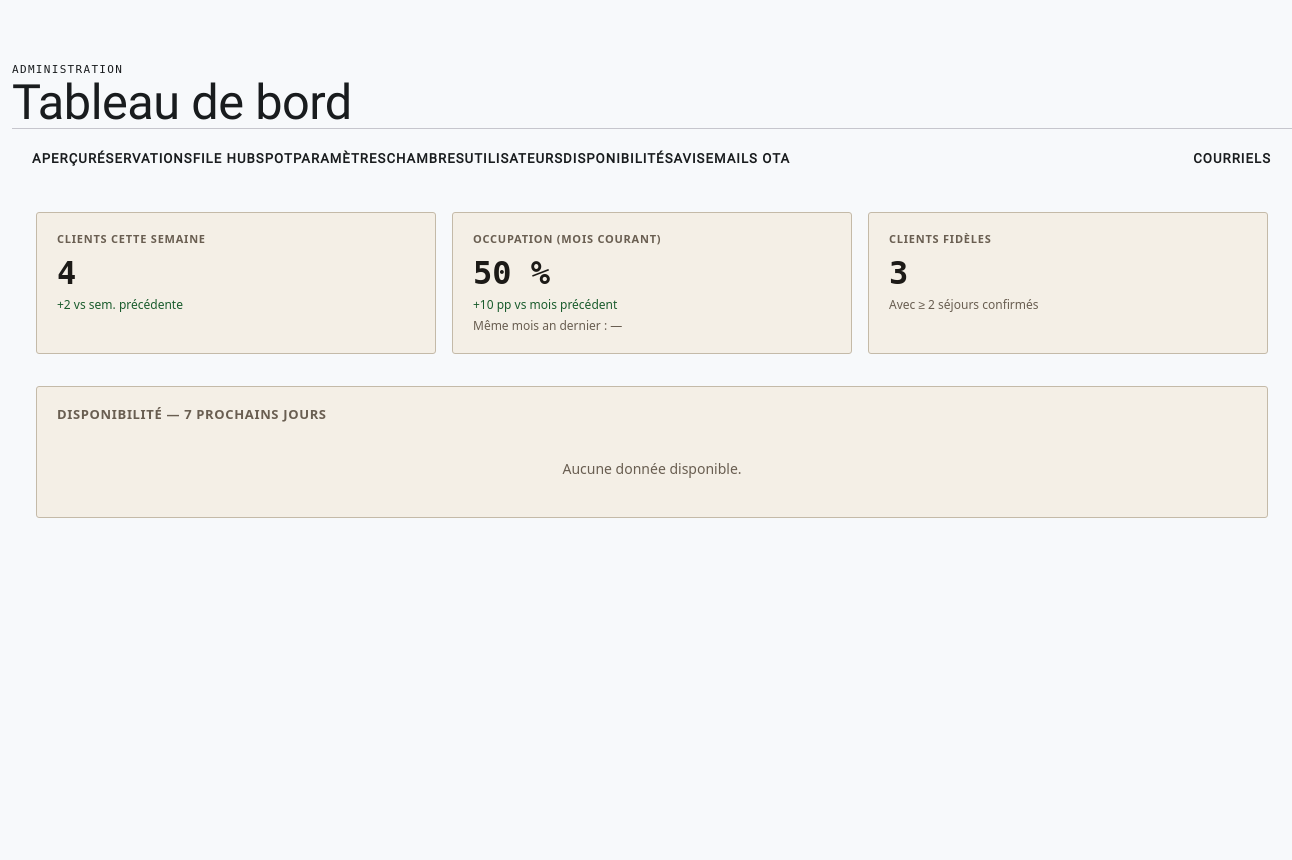
Test: page-admin tax settings fields › renders the three tax inputs seeded from the loaded settings
Click the tab with test id "tab-settings". click: (340, 159)
box: x1=293 y1=129 x2=386 y2=188
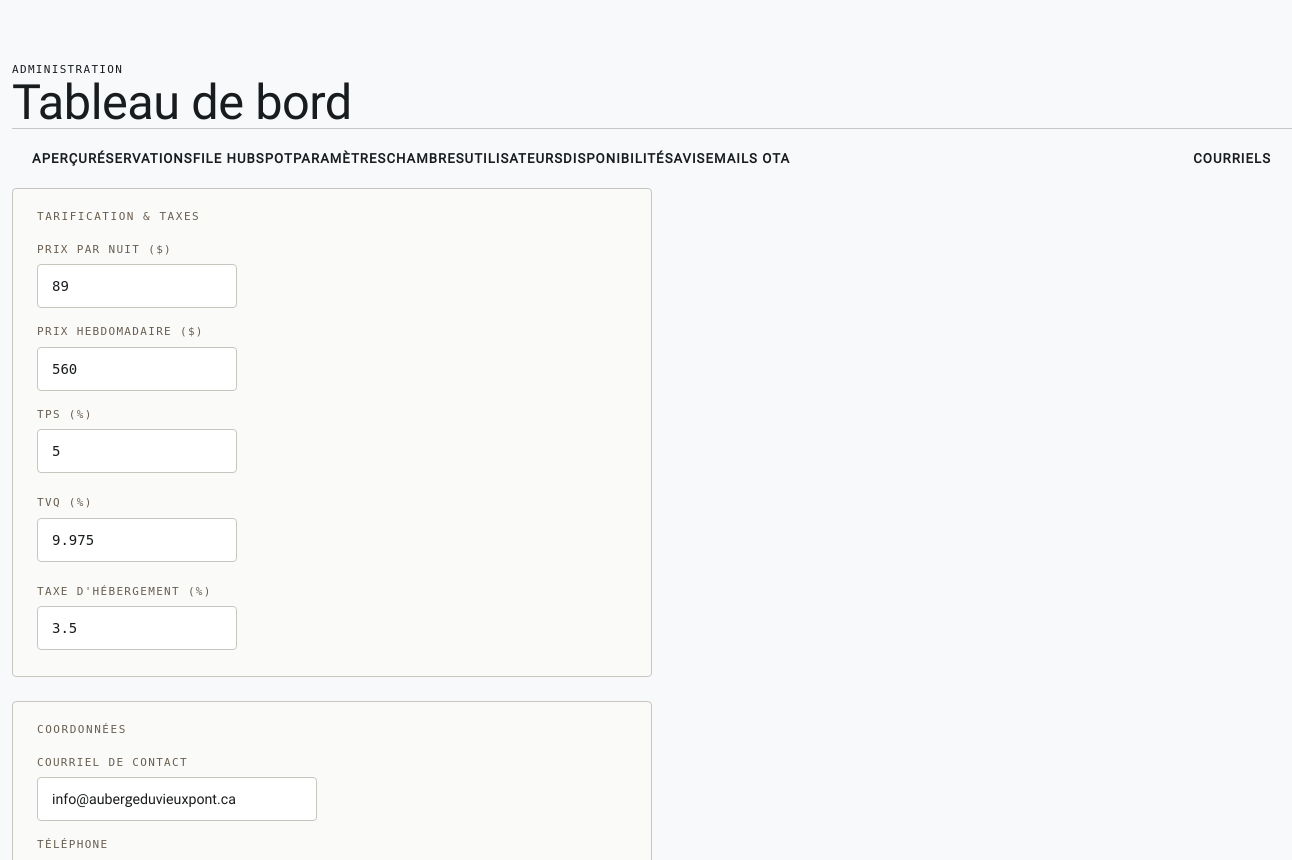
Check: the number field with test id "tps-input" holds "5", box x1=37 y1=429 x2=237 y2=473
Check: the number field with test id "tvq-input" holds "9.975", box x1=37 y1=518 x2=237 y2=562
Check: the number field with test id "accommodation-tax-input" holds "3.5", box x1=37 y1=606 x2=237 y2=650
